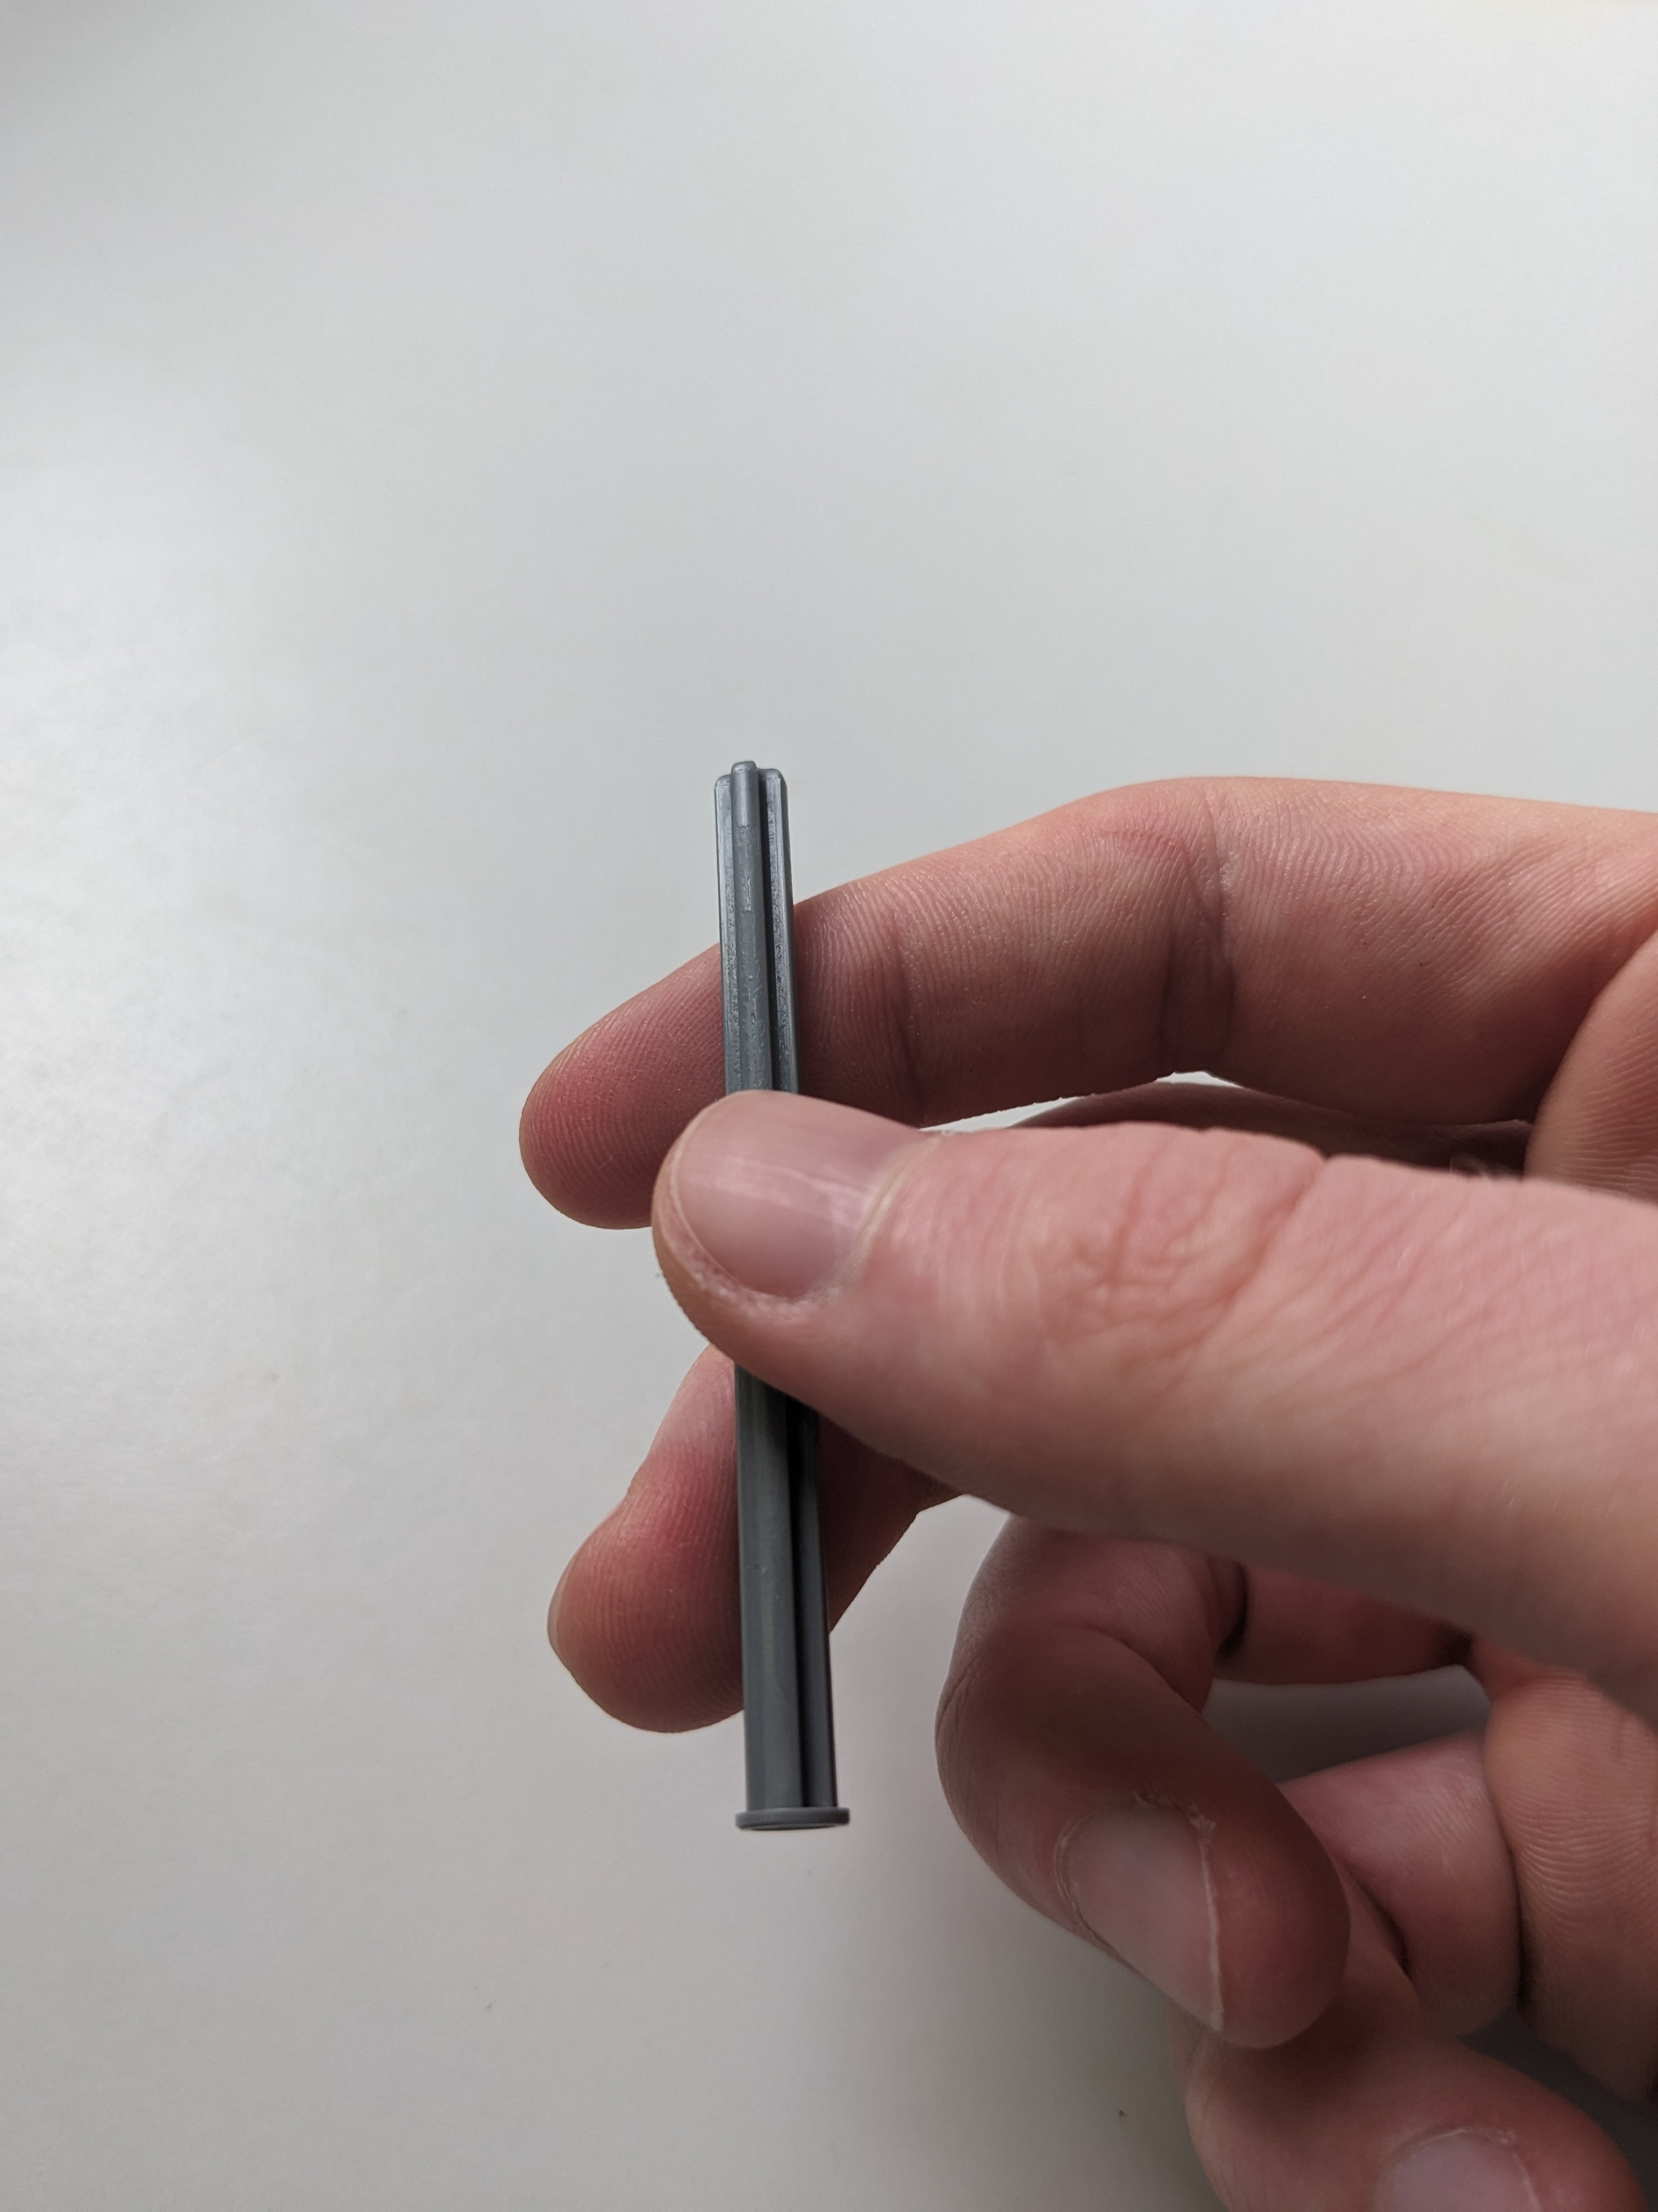Grau_lang: (695, 737, 878, 1862)
